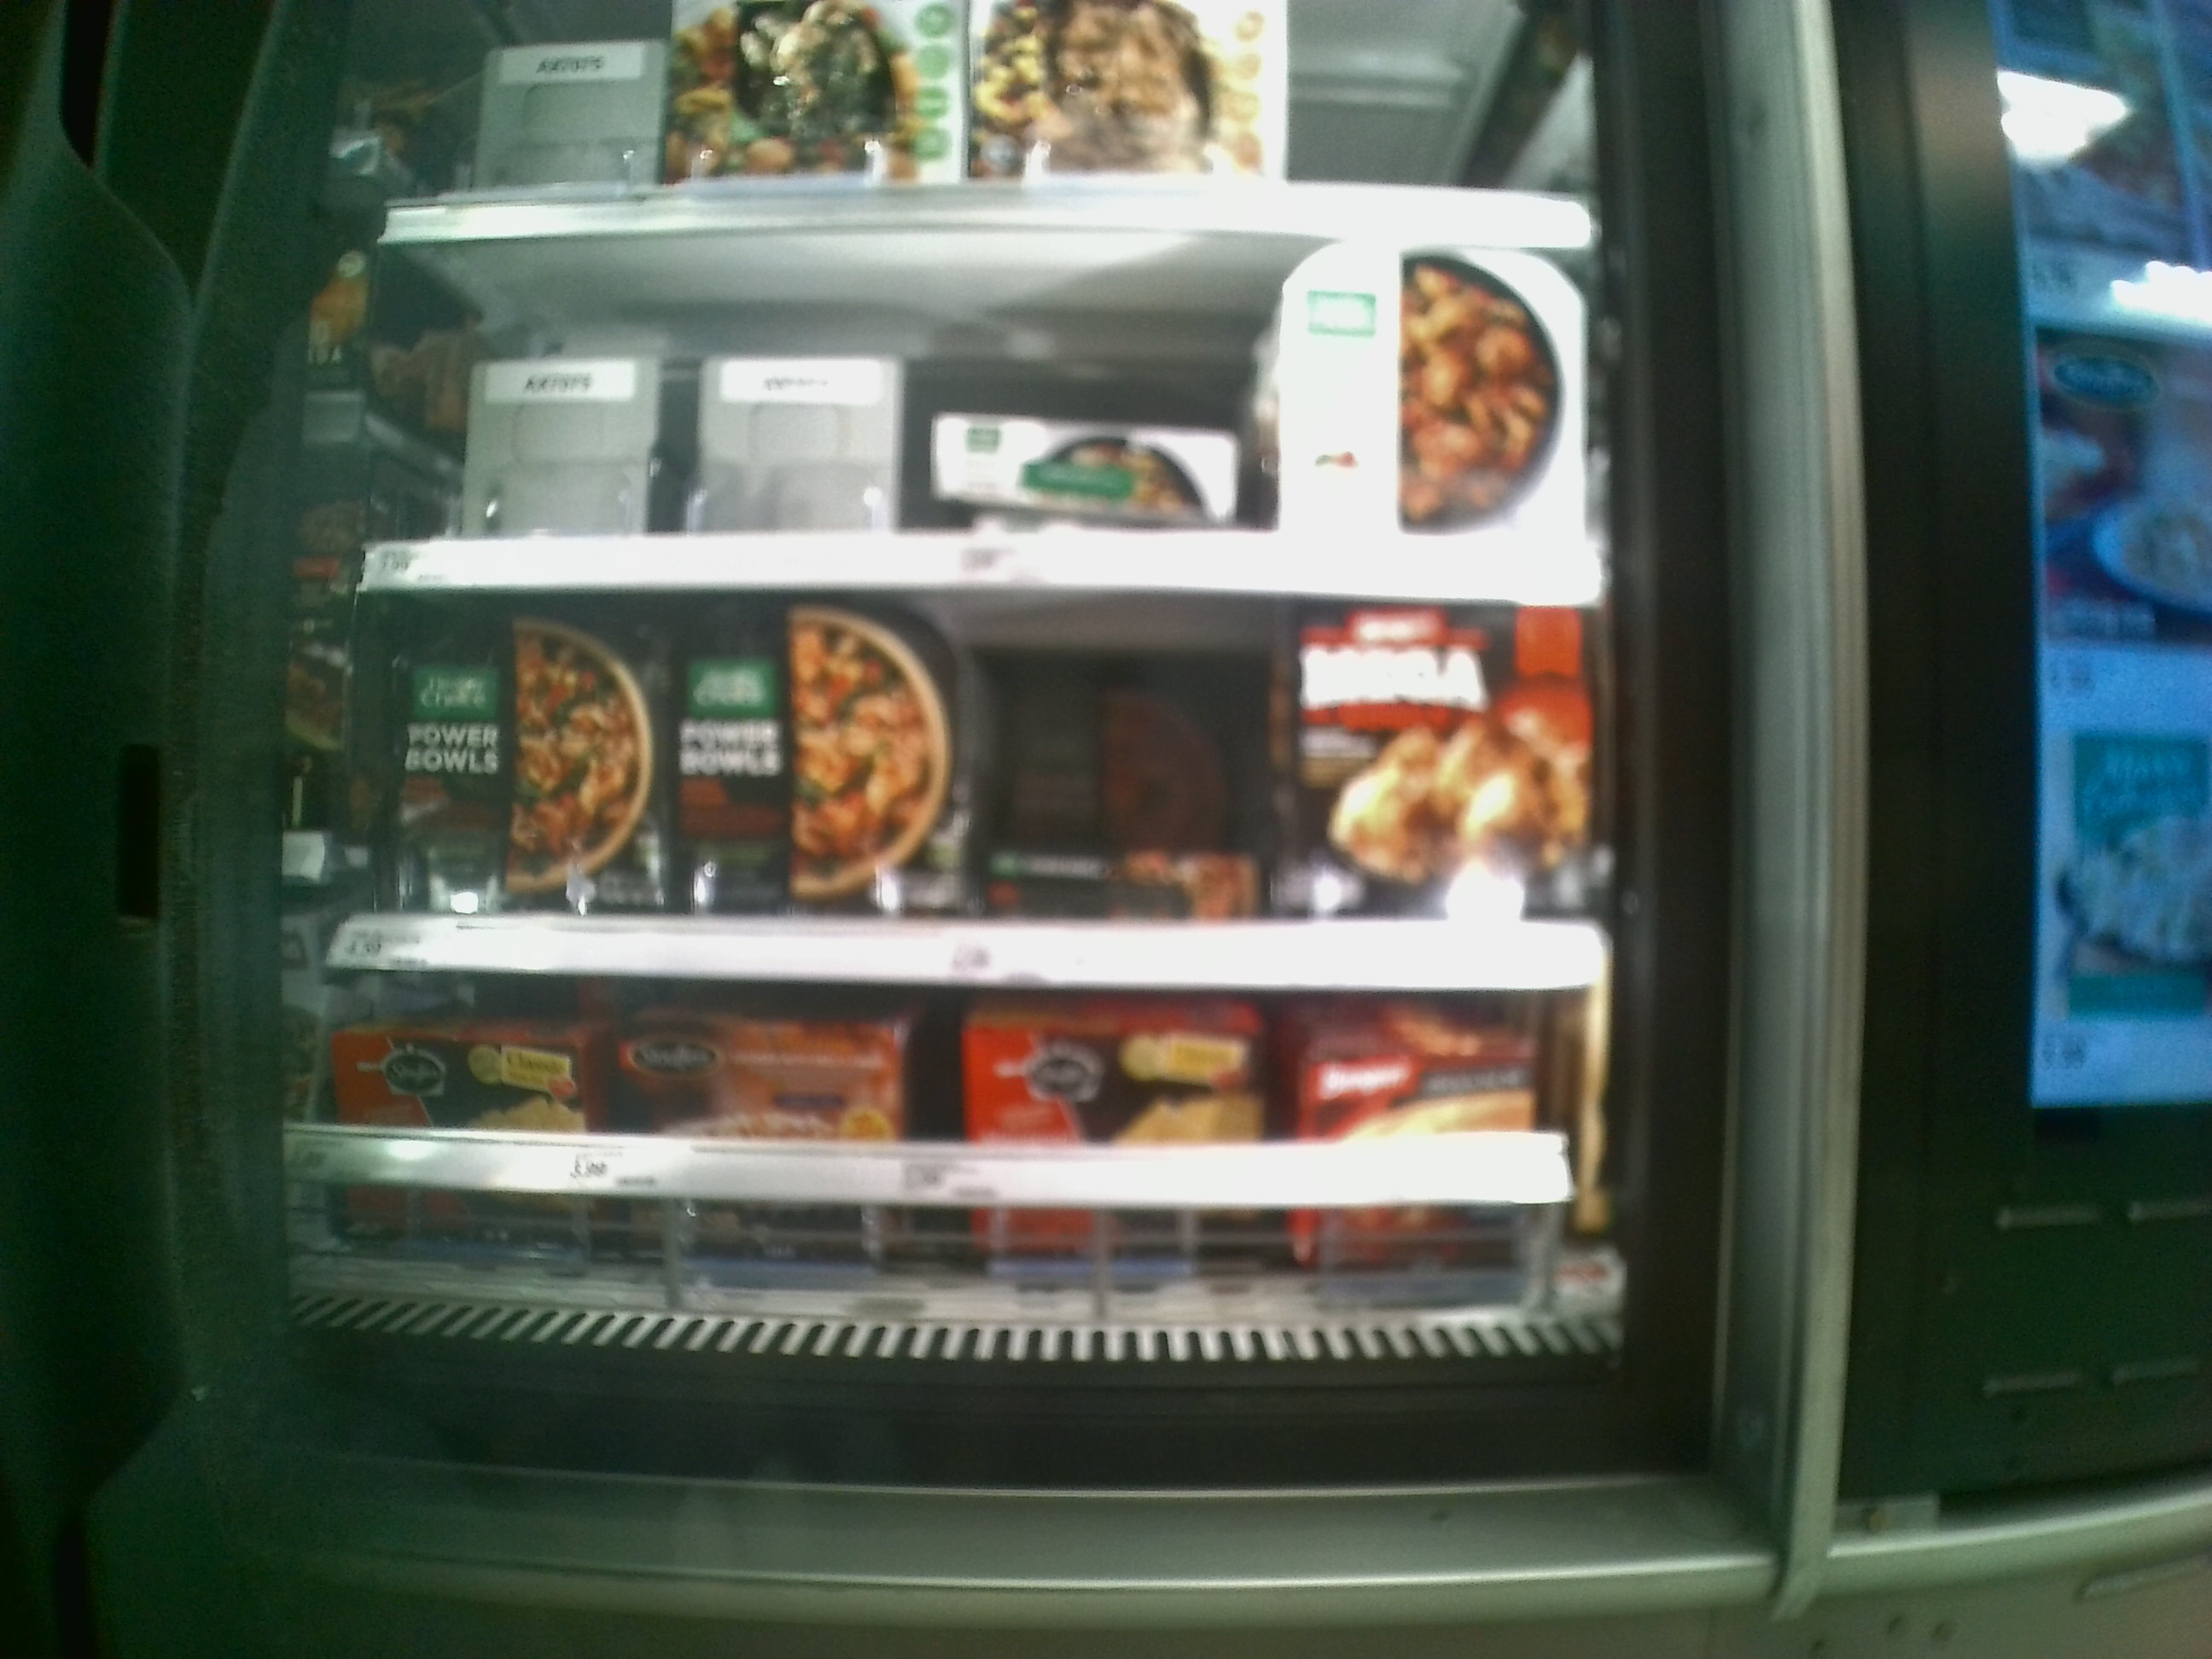shelf: (294, 958, 1611, 1431), (350, 586, 1611, 988), (348, 221, 1595, 596)
